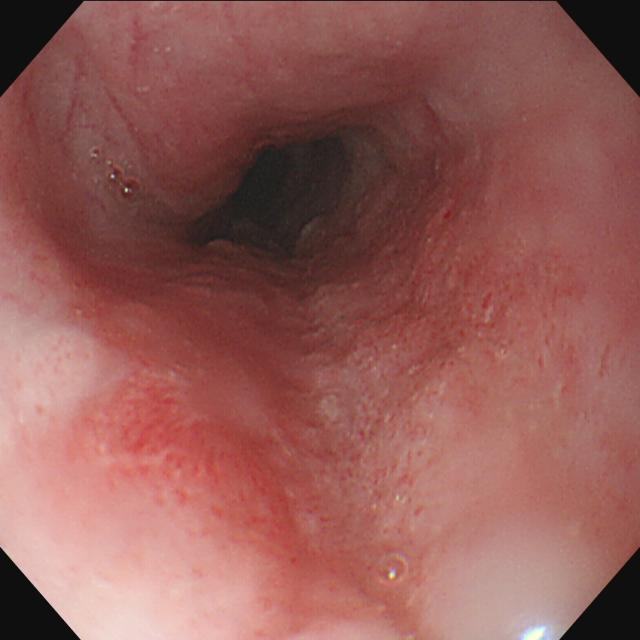A: (315, 280, 455, 537), (403, 197, 585, 354)
D: (95, 377, 305, 560)
E: (189, 133, 351, 254)
T: (89, 149, 142, 203), (376, 550, 415, 589)
